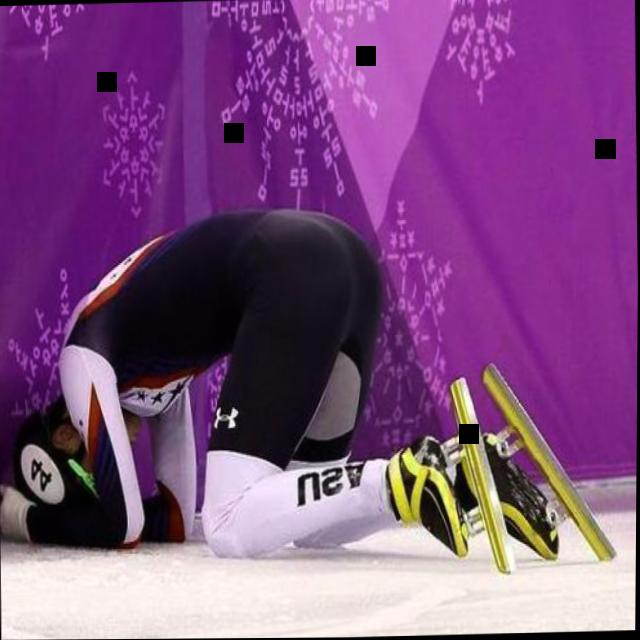Fall-Detected: (0, 177, 513, 583)
